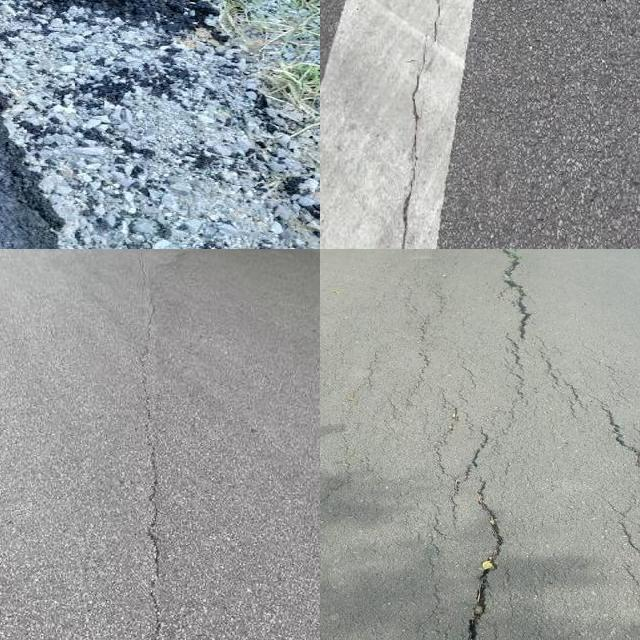Memanjang: (131, 249, 188, 640), (373, 0, 459, 249), (451, 428, 514, 640), (491, 249, 538, 363), (590, 398, 640, 484)
Pinggir: (0, 0, 157, 249)
